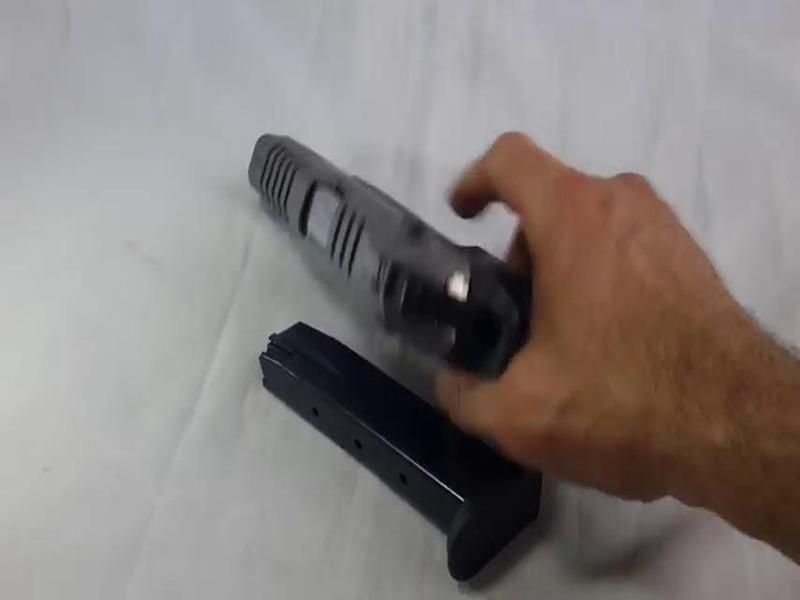Pistola: (218, 97, 574, 400)
